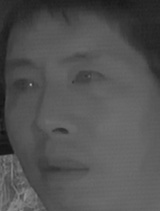eye: (69, 67, 108, 90), (7, 74, 40, 94)
mouth: (37, 153, 89, 187)
